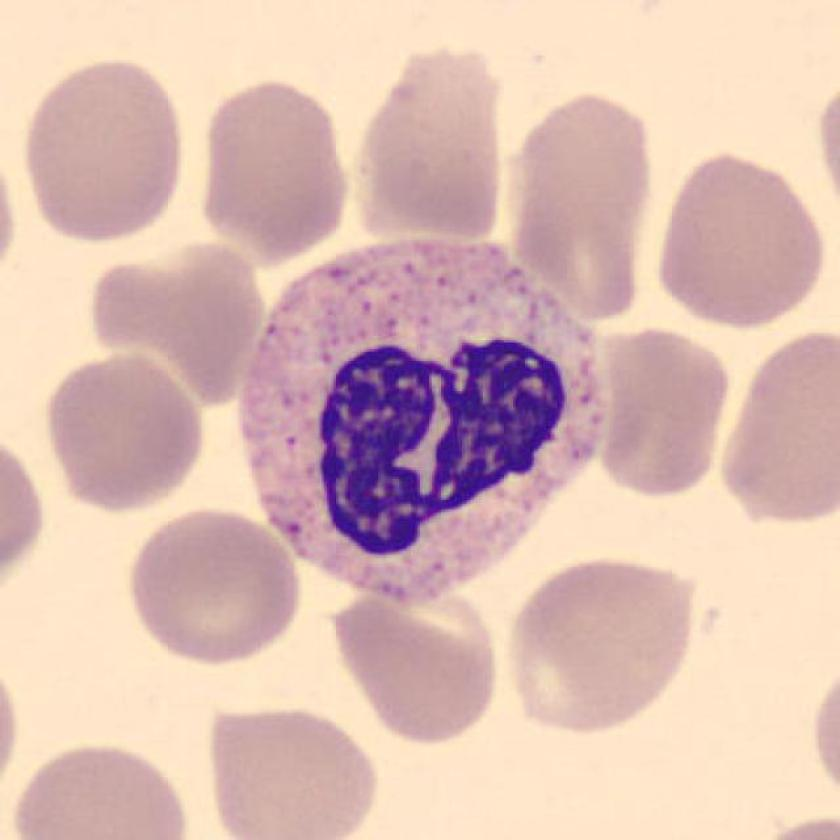neutrophil: (240, 244, 607, 599)
